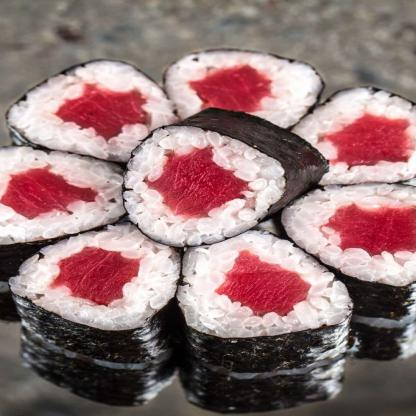tekkamaki: (106, 112, 329, 257)
